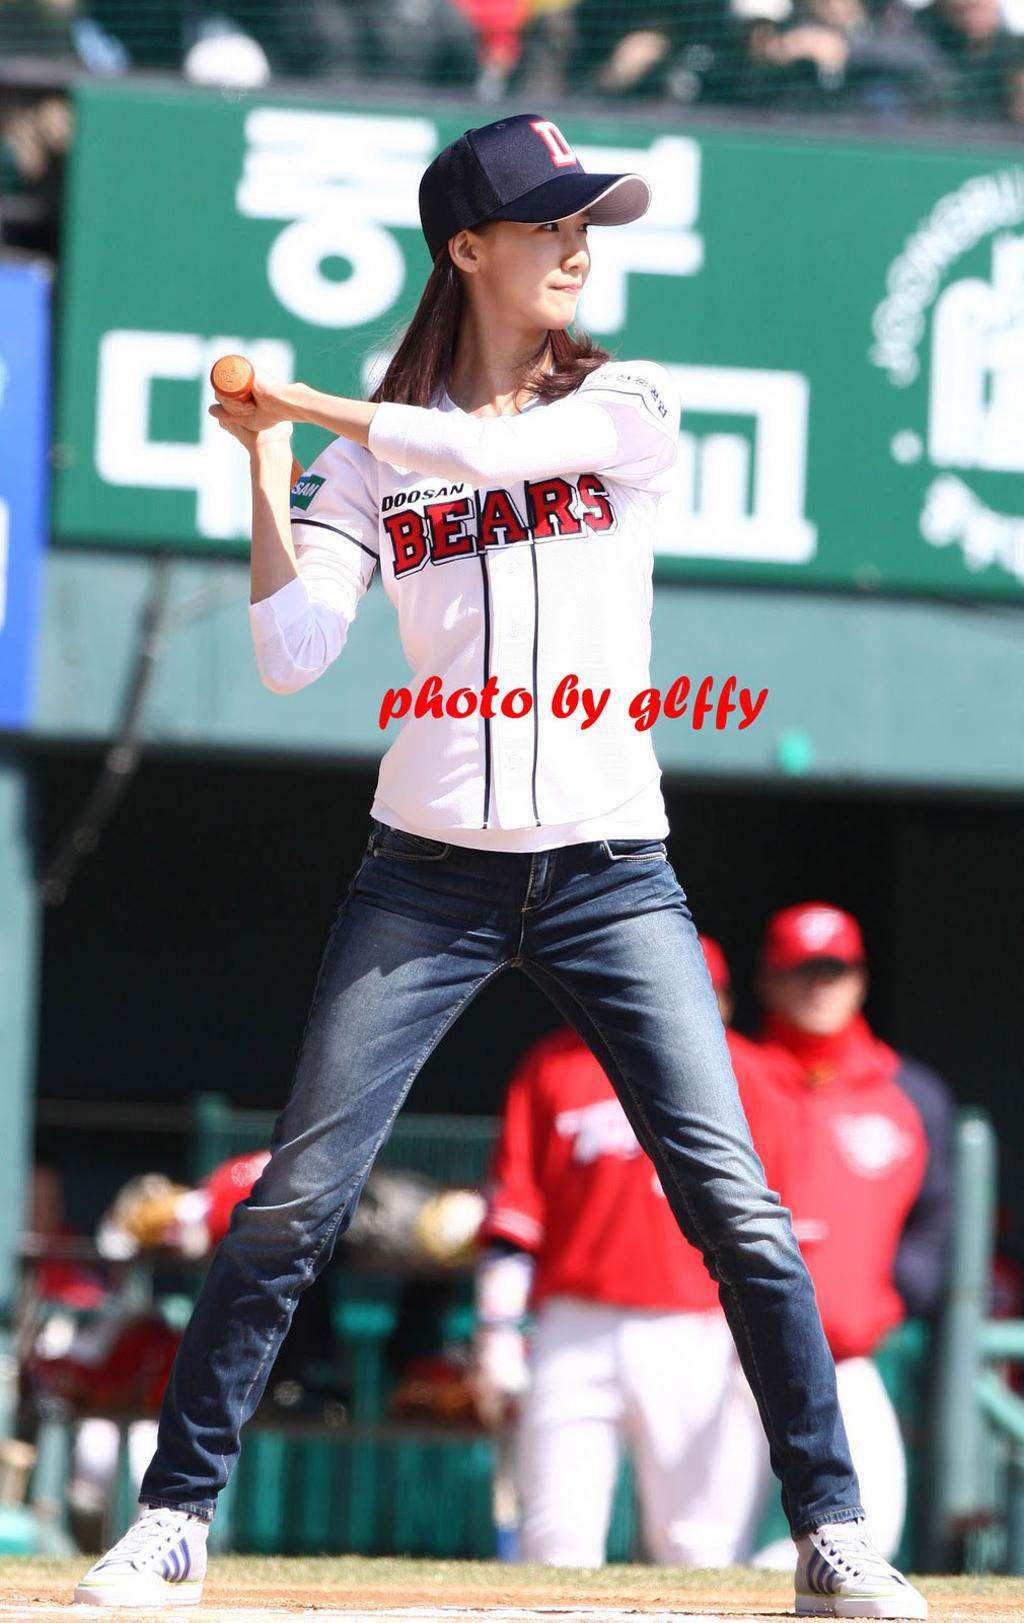face: (486, 172, 594, 337)
